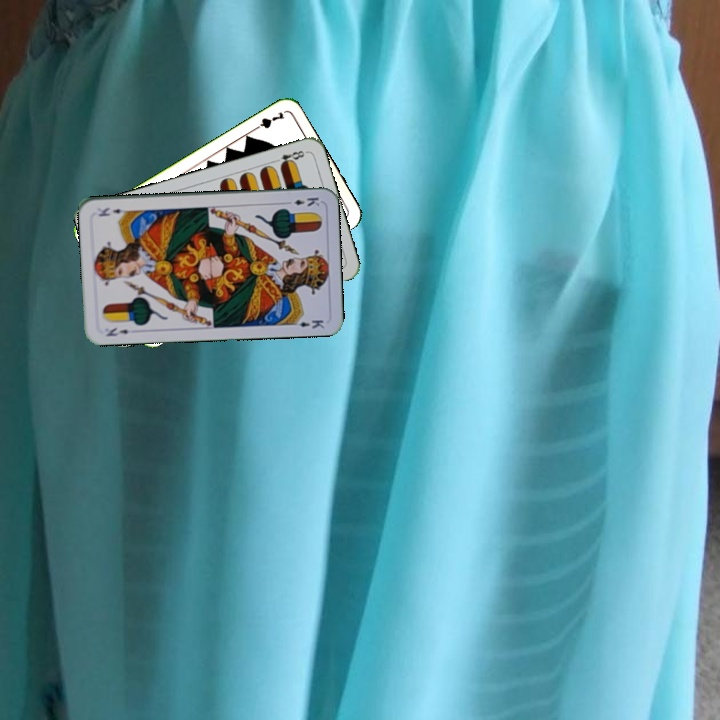E8: (269, 146, 309, 169)
EK: (281, 193, 322, 209), (102, 323, 131, 339)
G7: (248, 108, 287, 134)
